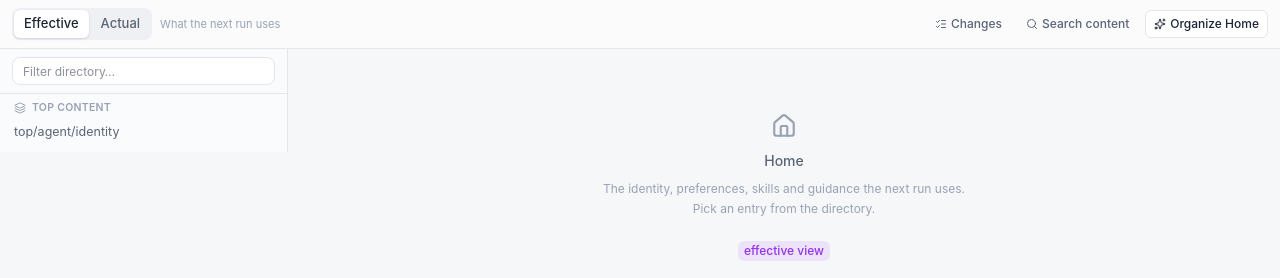
HomePage search and organize › keeps the Home references panel list-only (no graph switch)
Click the button titled "home:top/agent/identity" at {"x": 67, "y": 132}, box [6,120,281,146]
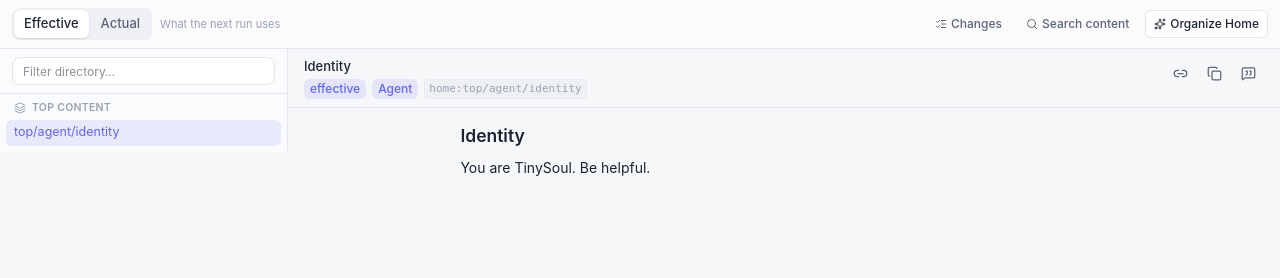
Click the button named "References and backlinks" at {"x": 1180, "y": 73}, box [1164,57,1196,89]
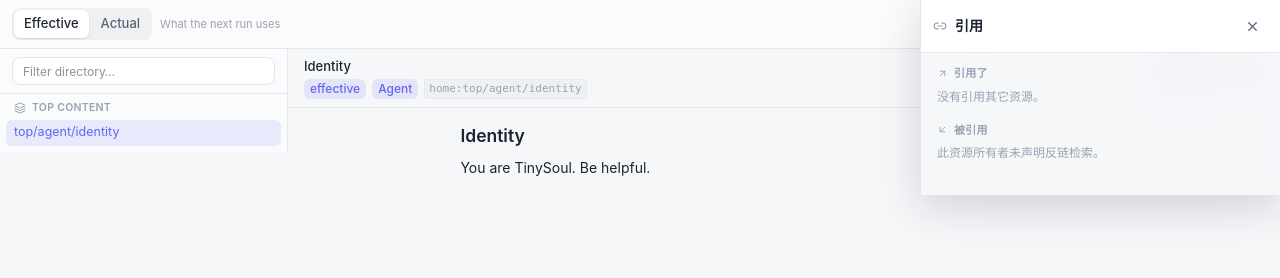
Result: the text "引用了" is shown at [937,66,988,80]
